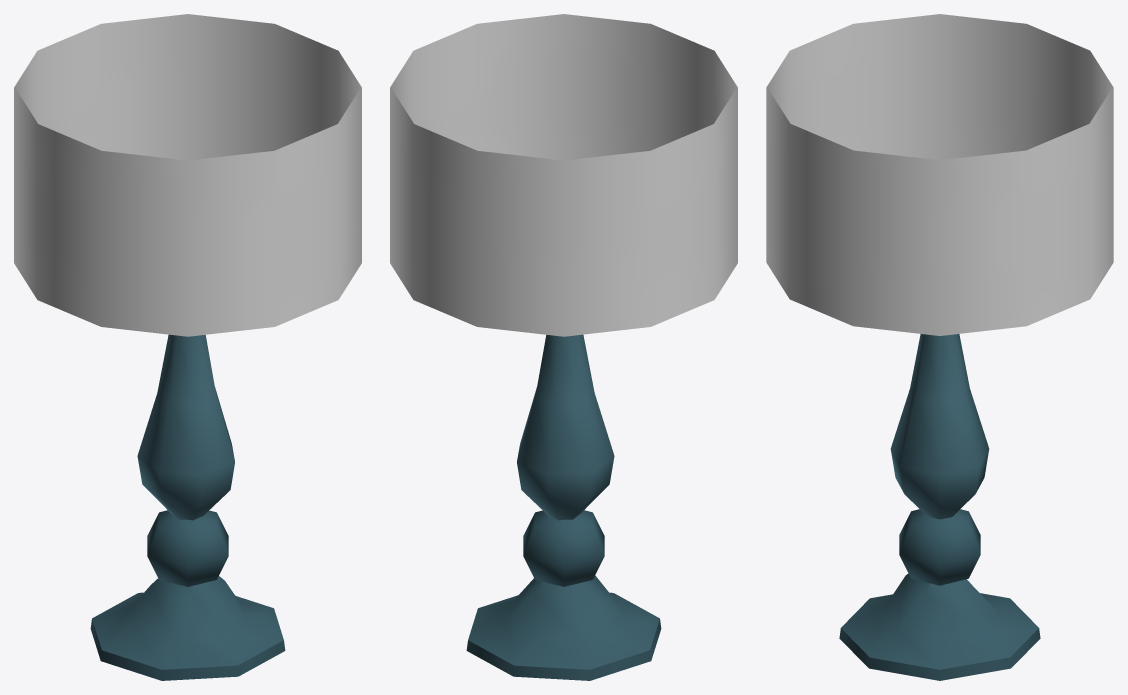
Rendered from lamp_022.glb.
The picture shows the model from 3 angles, left to right: view 1: azimuth 30°, elevation 25°; view 2: azimuth 150°, elevation 25°; view 3: azimuth 270°, elevation 25°; orthographic projection.
Parts seen in each view (by area): view 1: lamp_022; view 2: lamp_022; view 3: lamp_022.
Boxes of the visible parts, x1,y1,x2,y2 form: lamp_022: [14, 14, 361, 680]; lamp_022: [390, 14, 737, 680]; lamp_022: [766, 14, 1113, 680].
Bounding box in the file's own units: 0.3947 × 0.6916 × 0.3947.
1 material, 1 textured.
